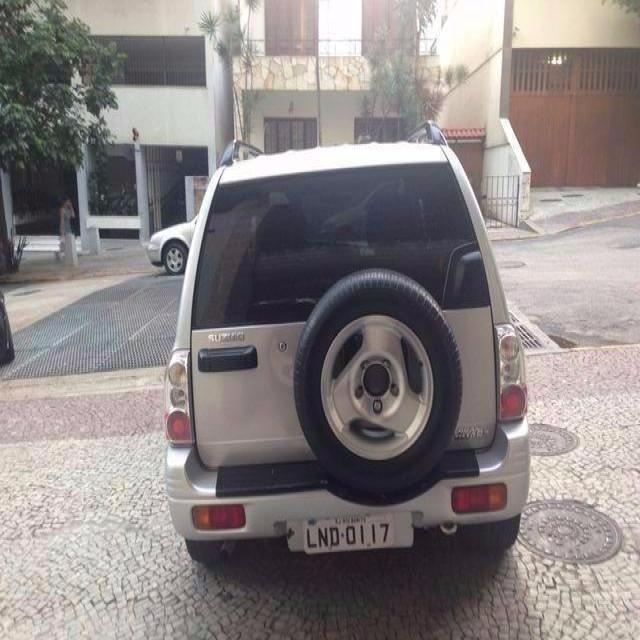Placa: (301, 511, 396, 557)
